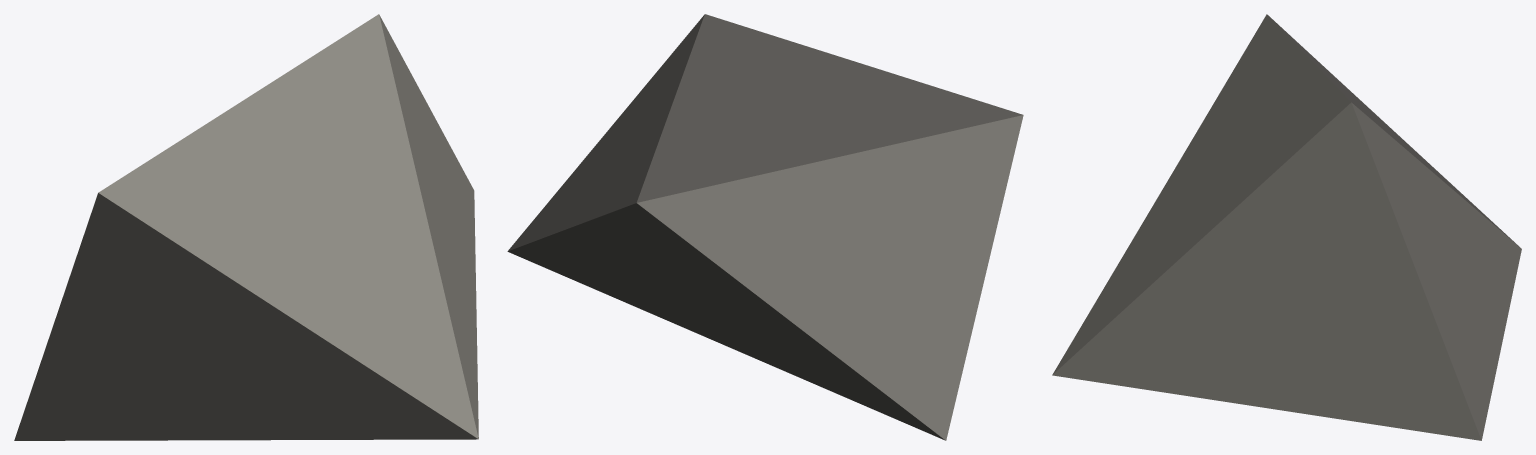
File: fx_rock_chunk.glb
3 views of the same model, side by side, from view 1: azimuth 30°, elevation 25°; view 2: azimuth 150°, elevation 25°; view 3: azimuth 270°, elevation 25° (orthographic). The views are drawn at different scales.
Visible parts, largest first — view 1: fx_rock_chunk__mesh; view 2: fx_rock_chunk__mesh; view 3: fx_rock_chunk__mesh.
Boxes of the visible parts, x1=… form: fx_rock_chunk__mesh: x1=14, y1=14, x2=478, y2=440; fx_rock_chunk__mesh: x1=507, y1=14, x2=1023, y2=440; fx_rock_chunk__mesh: x1=1052, y1=14, x2=1521, y2=440.
Size of the model in its own units: 0.2 by 0.15 by 0.17.
1 material, 1 textured.
